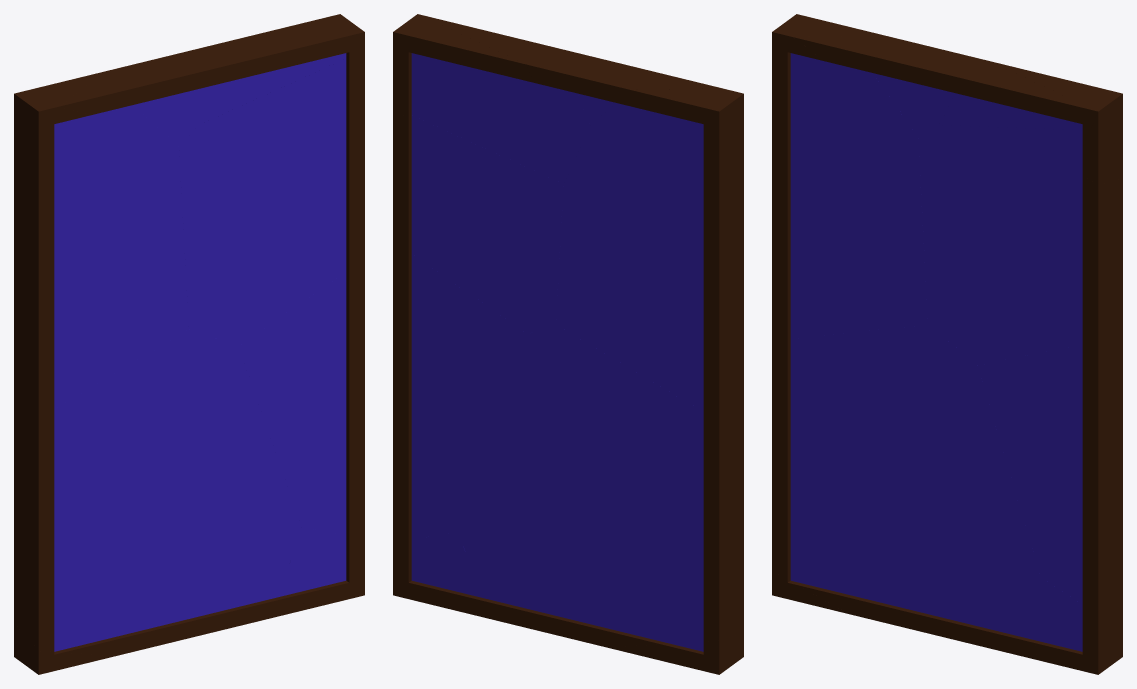
Rendered from GlassBroken_01.fbx.
The picture shows the model from 3 angles, left to right: view 1: azimuth 30°, elevation 25°; view 2: azimuth 150°, elevation 25°; view 3: azimuth 330°, elevation 25°; orthographic projection.
Parts seen in each view (by area): view 1: Glass_cell.006, Glass_cell.001, Glass_cell.004, Base_cell.002, Glass_cell.002, Base_cell.001, Base_cell.004, Base_cell.005, Glass_cell.003, Glass_cell, Base_cell, Glass_cell.005 (+1 smaller); view 2: Glass_cell.006, Glass_cell.004, Base_cell.002, Glass_cell.001, Glass_cell.002, Glass_cell, Base_cell.001, Base_cell.004, Base_cell, Base_cell.005, Glass_cell.003, Base_cell.003 (+1 smaller); view 3: Glass_cell.006, Glass_cell.001, Glass_cell.004, Base_cell.001, Glass_cell.002, Base_cell.002, Base_cell.004, Base_cell, Base_cell.005, Glass_cell.003, Glass_cell, Glass_cell.005 (+1 smaller).
Boxes of the visible parts, left/top/right/bottom form: Glass_cell.006: left=54, top=329, right=301, bottom=651; Glass_cell.001: left=179, top=58, right=346, bottom=345; Glass_cell.004: left=54, top=105, right=188, bottom=408; Base_cell.002: left=14, top=71, right=103, bottom=651; Glass_cell.002: left=238, top=272, right=346, bottom=534; Base_cell.001: left=297, top=103, right=364, bottom=609; Base_cell.004: left=59, top=32, right=364, bottom=115; Base_cell.005: left=63, top=592, right=304, bottom=655; Glass_cell.003: left=278, top=527, right=346, bottom=596; Glass_cell: left=200, top=53, right=346, bottom=124; Base_cell: left=207, top=14, right=364, bottom=105; Glass_cell.005: left=133, top=85, right=215, bottom=146; Glass_cell.006: left=458, top=324, right=703, bottom=651; Glass_cell.004: left=556, top=103, right=703, bottom=411; Base_cell.002: left=597, top=88, right=743, bottom=641; Glass_cell.001: left=411, top=115, right=563, bottom=333; Glass_cell.002: left=411, top=254, right=527, bottom=539; Glass_cell: left=411, top=53, right=590, bottom=183; Base_cell.001: left=393, top=111, right=469, bottom=612; Base_cell.004: left=418, top=14, right=722, bottom=97; Base_cell: left=393, top=14, right=532, bottom=116; Base_cell.005: left=465, top=595, right=666, bottom=647; Glass_cell.003: left=411, top=532, right=480, bottom=597; Base_cell.003: left=608, top=633, right=743, bottom=674; Glass_cell.006: left=790, top=324, right=1040, bottom=635; Glass_cell.001: left=918, top=125, right=1082, bottom=365; Glass_cell.004: left=790, top=53, right=927, bottom=338; Base_cell.001: left=1035, top=176, right=1122, bottom=674; Glass_cell.002: left=978, top=344, right=1082, bottom=604; Base_cell.002: left=772, top=14, right=885, bottom=579; Base_cell.004: left=793, top=36, right=1097, bottom=146; Base_cell: left=990, top=61, right=1122, bottom=185; Base_cell.005: left=796, top=583, right=1037, bottom=659; Glass_cell.003: left=1018, top=578, right=1082, bottom=651; Glass_cell: left=939, top=93, right=1082, bottom=130; Glass_cell.005: left=872, top=73, right=955, bottom=136.
Size of the model in its own units: 8000 by 13200 by 1045.
